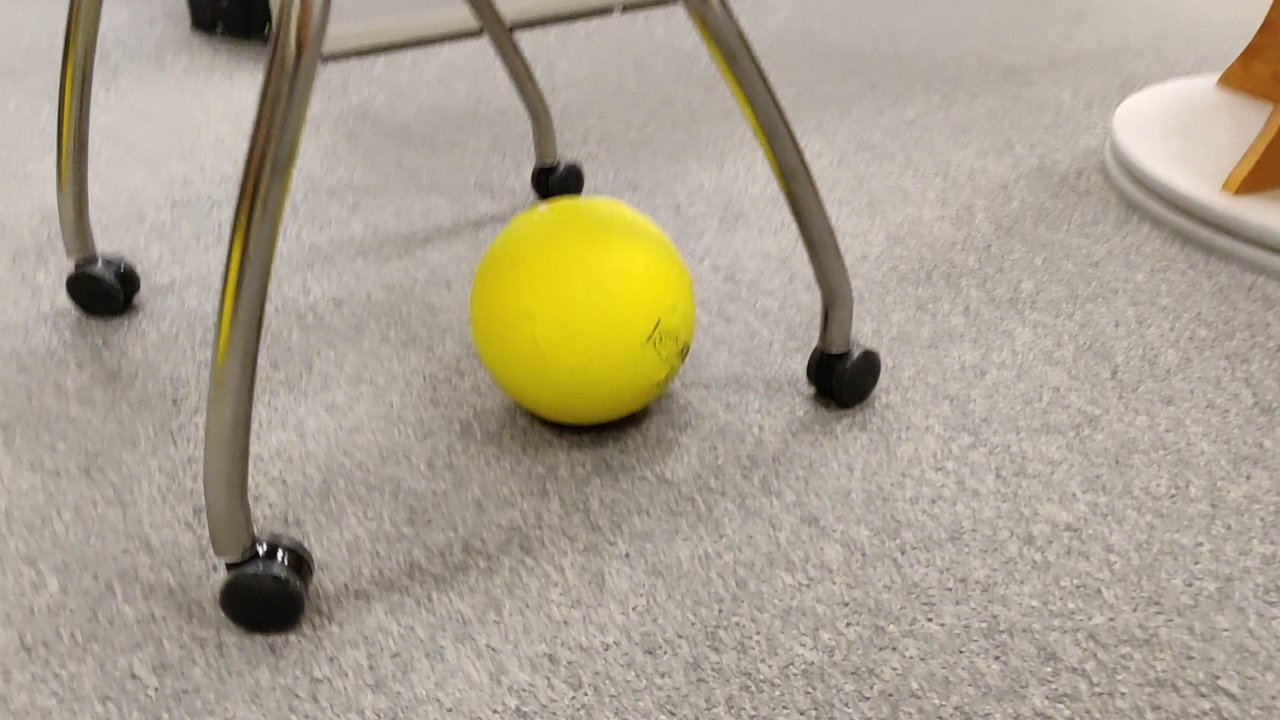Ball: (465, 197, 696, 431)
